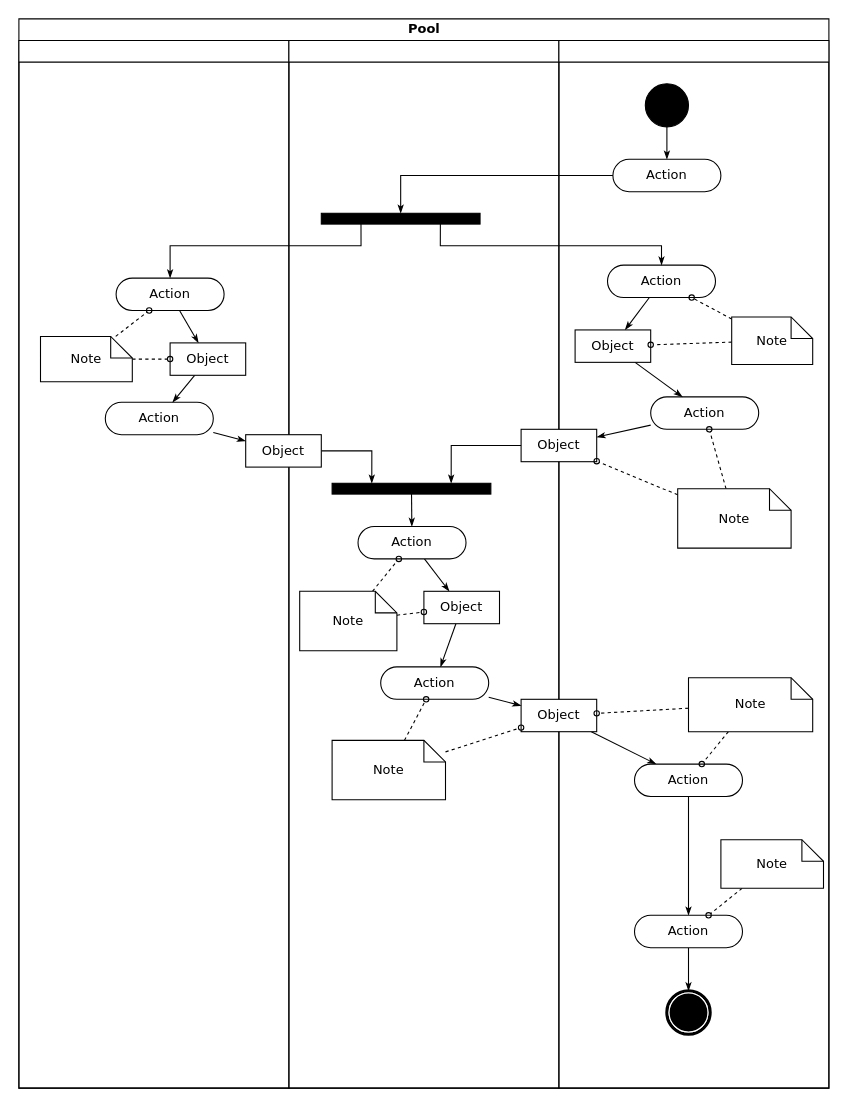
Image size: 848x1107. Some labels were removed from this diagram. Each missing label, with the box of its shape:
Lane 1: (18, 39, 289, 1088)
Lane 2: (288, 39, 559, 1088)
Lane 3: (558, 39, 829, 1088)
